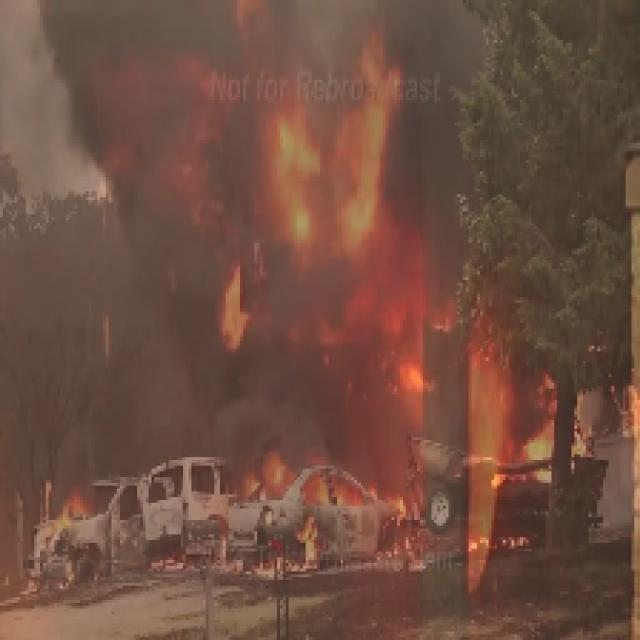Fire: (102, 29, 558, 608)
Smoke: (0, 0, 503, 240)
